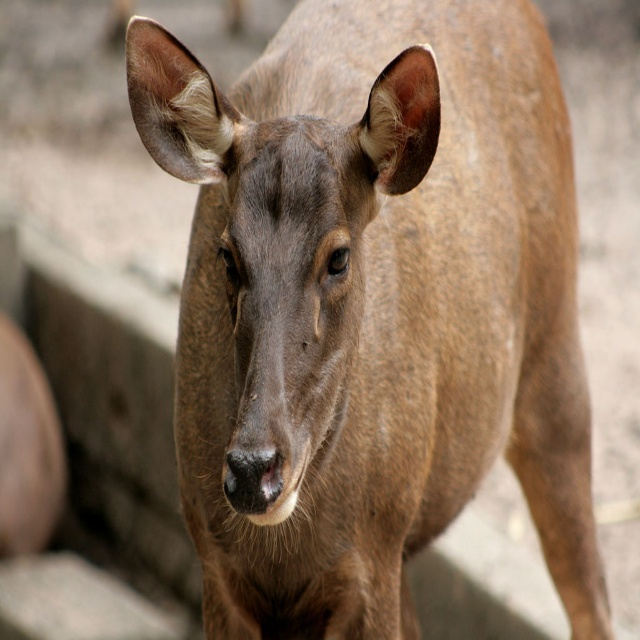Deer: (122, 0, 618, 638)
